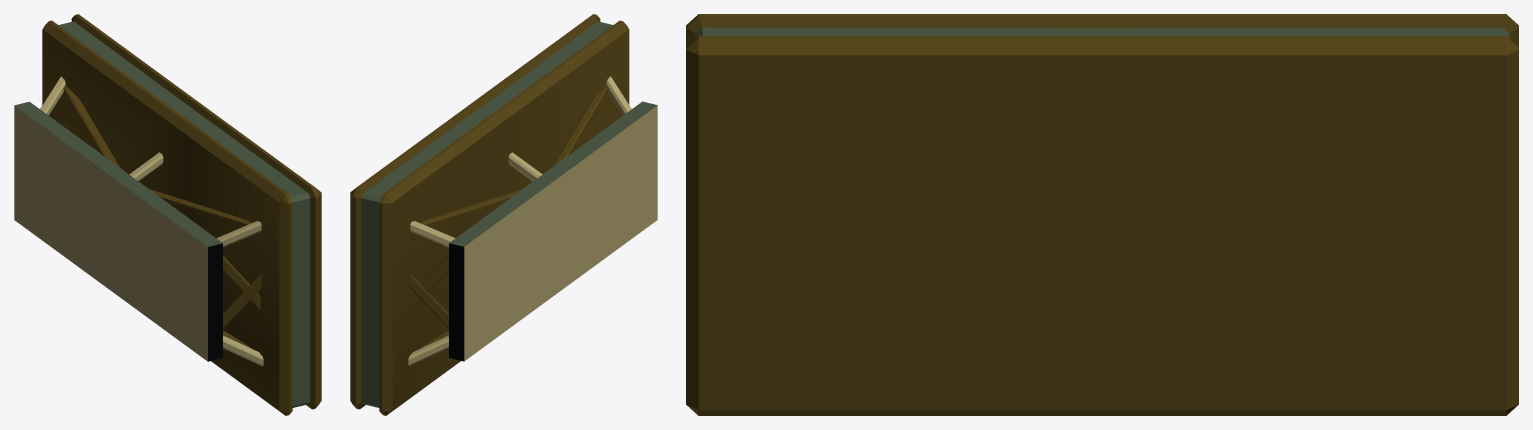
Rendered from OBJ_Platform_Wall_Ride_LP.fbx.
3 renders of one model, left to right at view 1: azimuth 30°, elevation 25°; view 2: azimuth 150°, elevation 25°; view 3: azimuth 270°, elevation 25°, orthographic. The views are drawn at different scales.
Parts seen in each view (by area): view 1: Object001; view 2: Object001; view 3: Object001.
Part boxes in pixels (x1,y1,x2,y2): Object001: (14,14,321,415); Object001: (350,14,657,415); Object001: (686,14,1518,415).
Bounding box in the file's own units: 436 × 1000 × 2000.
